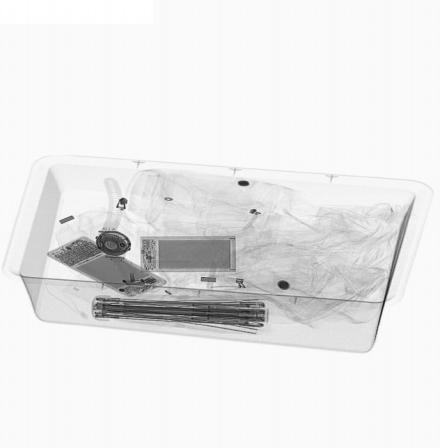Powerbank: (138, 236, 235, 273)
